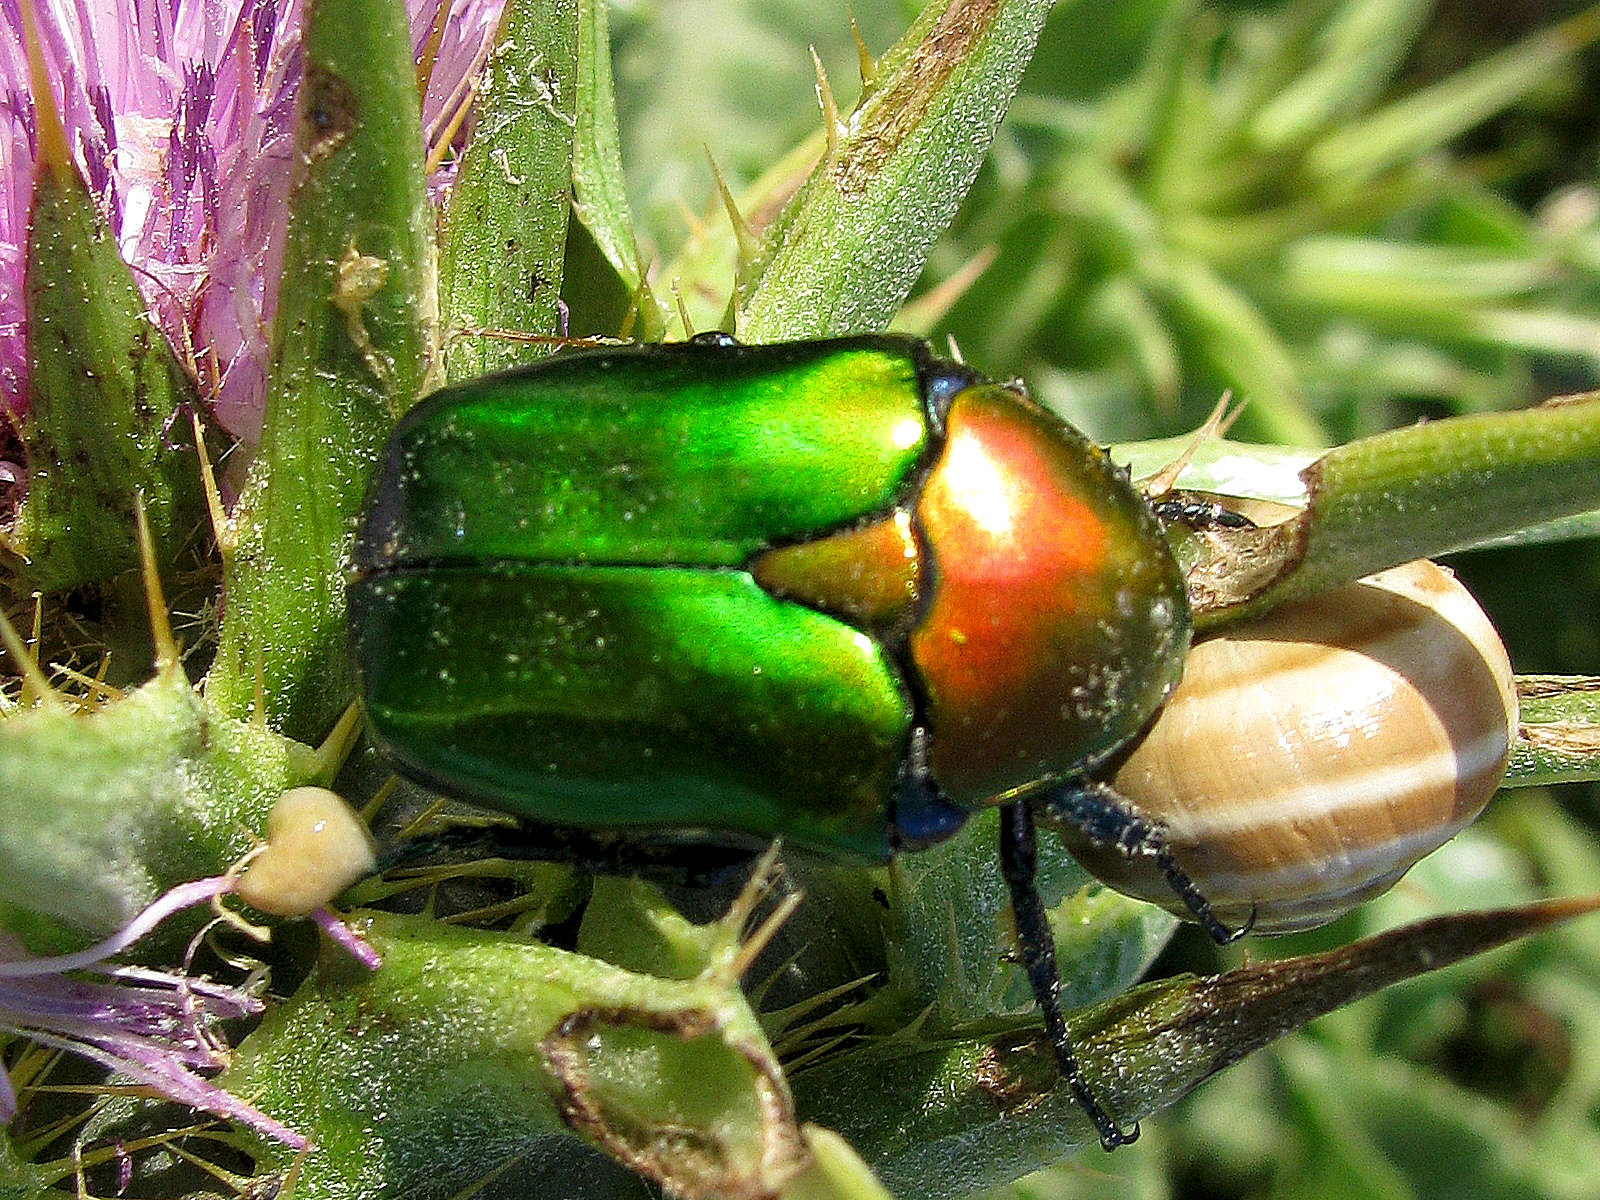Protaetia_cuprea_ignicollis: (312, 292, 1284, 1163)
